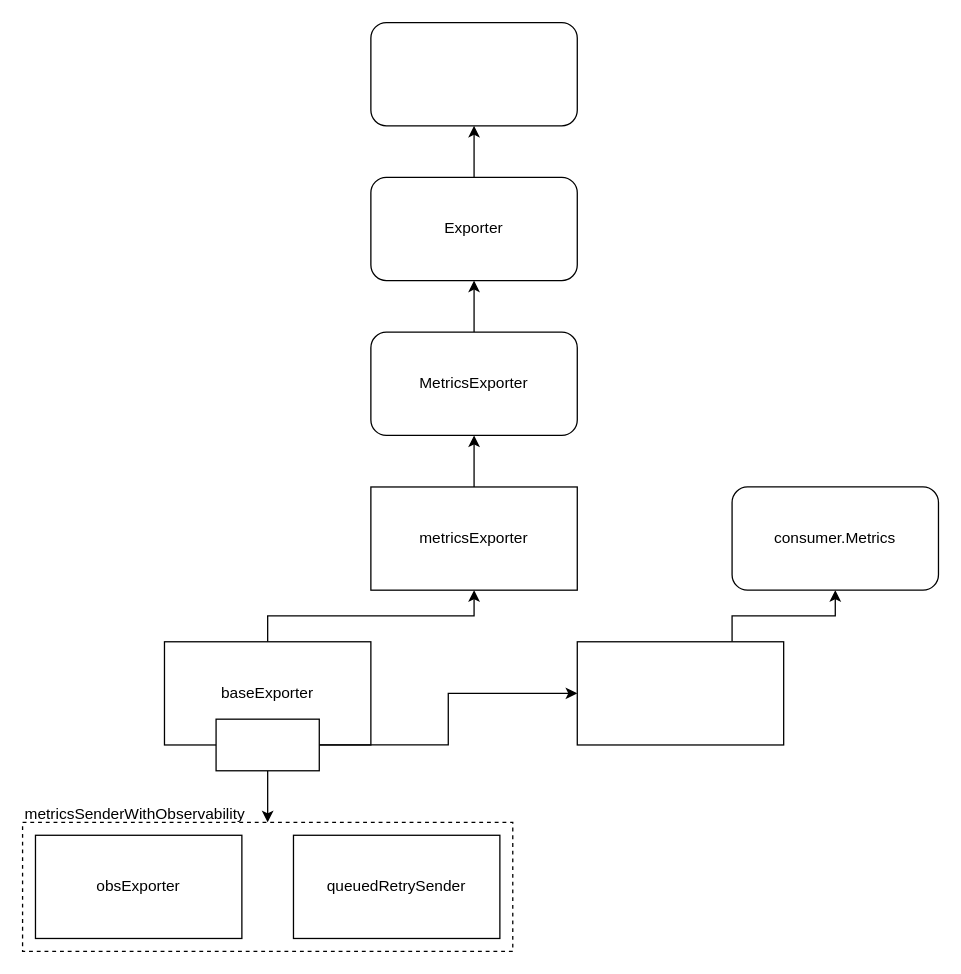
The diagram is 961 pixels wide and 974 high, and some of its shapes have lost their labels. Each missing label, with the centre of its shape:
baseMetrics: the point at 680,692
Component: the point at 473,73
request Sender: the point at 267,744
